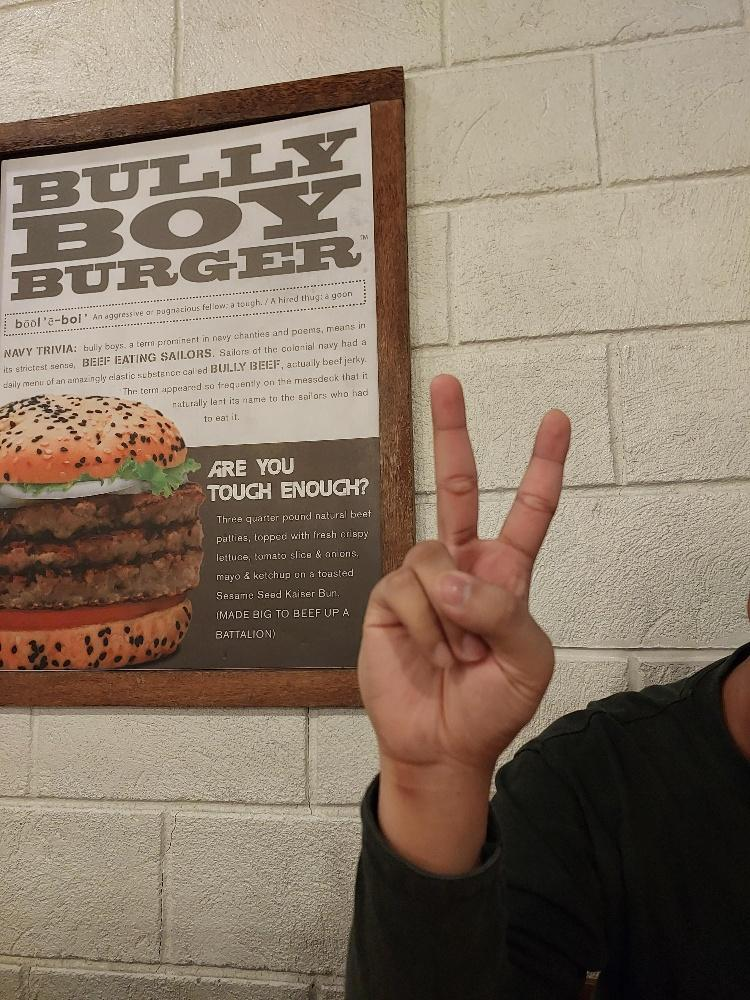v: (355, 371, 572, 765)
